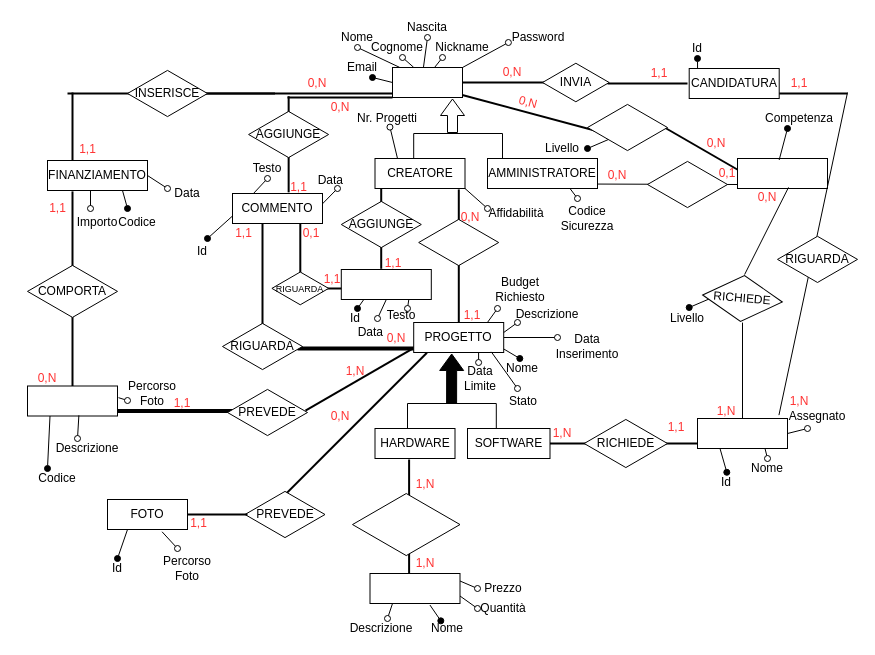
Image size: 875x655. Some labels were removed from this diagram. Each missing label, with the box of its shape:
COMPONENTI: (369, 572, 460, 604)
COMPOSTO DA: (352, 491, 460, 557)
CREA: (418, 218, 499, 266)
POPOLA: (646, 160, 728, 208)
POSSIEDE: (586, 102, 668, 152)
PROFILI: (696, 418, 788, 448)
REWARDS: (26, 385, 118, 416)
RISPOSTA: (340, 268, 431, 300)
SKILLS: (736, 158, 828, 188)
UTENTE: (392, 66, 462, 98)
